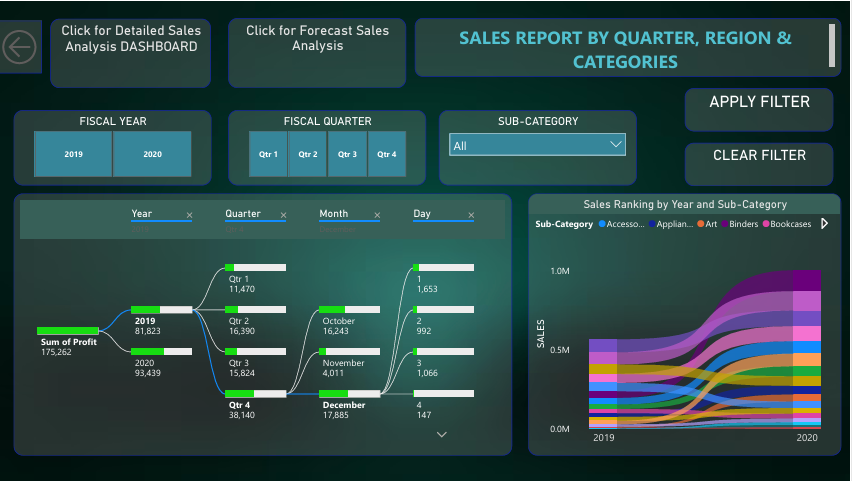

This screenshot's page, from the dashboard's own definition file:
{"tool":"powerbi","page":{"name":"SALES BY TIME & CATEGORY","canvas":[1280,720],"ordinal":1},"visuals":[{"type":"actionButton","title":"Click for Detailed Sales                   Analysis DASHBOARD","box":[80,25.7,241.4,104.3],"z":0},{"type":"decompositionTreeVisual","fields":{"Analyze":["Sum(SuperStore_Sales_Dataset.Profit)"],"ExplainBy":["SuperStore_Sales_Dataset.Order Date.Variation.Date Hierarchy.Year","SuperStore_Sales_Dataset.Order Date.Variation.Date Hierarchy.Quarter","SuperStore_Sales_Dataset.Order Date.Variation.Date Hierarchy.Month","SuperStore_Sales_Dataset.Order Date.Variation.Date Hierarchy.Day"]},"box":[25,288.3,748.3,393.3],"z":1000},{"type":"actionButton","title":"Click for Forecast Sales Analysis","box":[346.7,25,266.7,105],"z":2000},{"type":"slicer","title":"FISCAL YEAR","fields":{"Values":["SuperStore_Sales_Dataset.Order Date.Variation.Date Hierarchy.Year"]},"box":[25,163.3,296.7,113.3],"z":3000},{"type":"actionButton","title":"CLEAR FILTER","box":[1031.7,211.7,223.3,65],"z":4000},{"type":"slicer","title":"FISCAL QUARTER","fields":{"Values":["SuperStore_Sales_Dataset.Order Date.Variation.Date Hierarchy.Quarter"]},"box":[346.7,163.3,296.7,113.3],"z":5000},{"type":"actionButton","title":"APPLY FILTER","box":[1031.7,130,223.3,65],"z":6000},{"type":"textbox","box":[626.7,25,640,88.3],"z":7000},{"type":"ribbonChart","title":"Sales Ranking by Year and Sub-Category","fields":{"Category":["SuperStore_Sales_Dataset.Order Date.Variation.Date Hierarchy.Year","SuperStore_Sales_Dataset.Order Date.Variation.Date Hierarchy.Quarter","SuperStore_Sales_Dataset.Order Date.Variation.Date Hierarchy.Month","SuperStore_Sales_Dataset.Order Date.Variation.Date Hierarchy.Day"],"Y":["Sum(SuperStore_Sales_Dataset.Sales)"],"Series":["SuperStore_Sales_Dataset.Sub-Category"]},"box":[796.7,288.3,470,393.3],"z":8000},{"type":"slicer","title":"SUB-CATEGORY","fields":{"Values":["SuperStore_Sales_Dataset.Sub-Category"]},"box":[663.3,163.3,296.7,113.3],"z":9000},{"type":"actionButton","box":[0,28.6,67.1,78.6],"z":10000}]}

Visuals, with their boxes in screenshot pixels (x1, y1, x2, y2), scaled from the page's 1280x720 canvas onto the 852x481 screenshot:
"Click for Detailed Sales                   Analysis DASHBOARD" actionButton: pyautogui.locateOnScreen(53, 17, 214, 87)
decompositionTreeVisual - Sum(SuperStore_Sales_Dataset.Profit) x SuperStore_Sales_Dataset.Order Date.Variation.Date Hierarchy.Year: pyautogui.locateOnScreen(17, 193, 515, 455)
"Click for Forecast Sales Analysis" actionButton: pyautogui.locateOnScreen(231, 17, 408, 87)
"FISCAL YEAR" slicer: pyautogui.locateOnScreen(17, 109, 214, 185)
"CLEAR FILTER" actionButton: pyautogui.locateOnScreen(687, 141, 835, 185)
"FISCAL QUARTER" slicer: pyautogui.locateOnScreen(231, 109, 428, 185)
"APPLY FILTER" actionButton: pyautogui.locateOnScreen(687, 87, 835, 130)
textbox: pyautogui.locateOnScreen(417, 17, 843, 76)
"Sales Ranking by Year and Sub-Category" ribbonChart: pyautogui.locateOnScreen(530, 193, 843, 455)
"SUB-CATEGORY" slicer: pyautogui.locateOnScreen(442, 109, 639, 185)
actionButton: pyautogui.locateOnScreen(0, 19, 45, 72)
